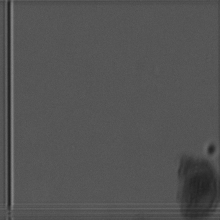Dead Cell: (168, 155, 218, 217)
